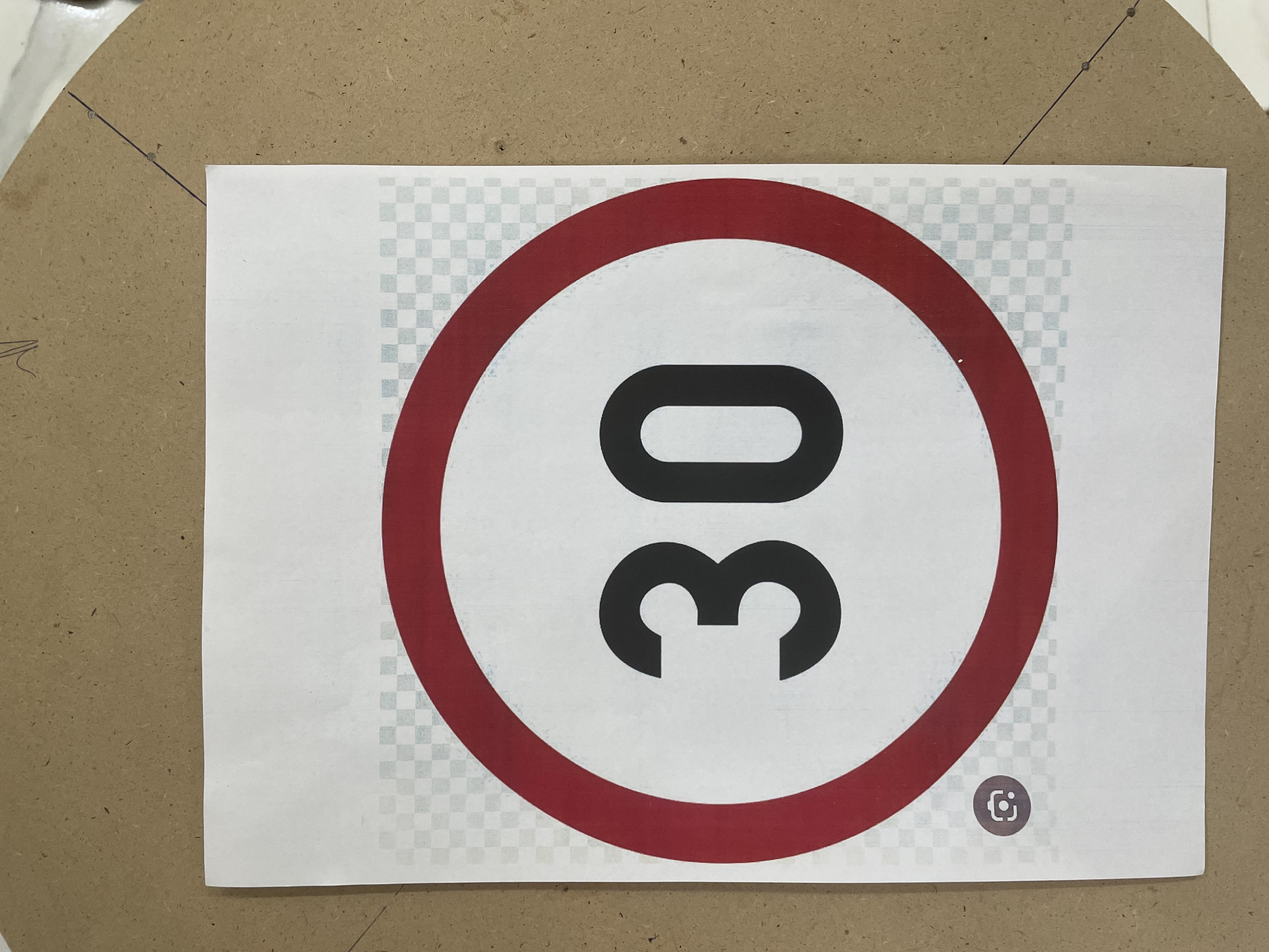30-speed: (113, 286, 1050, 798)
